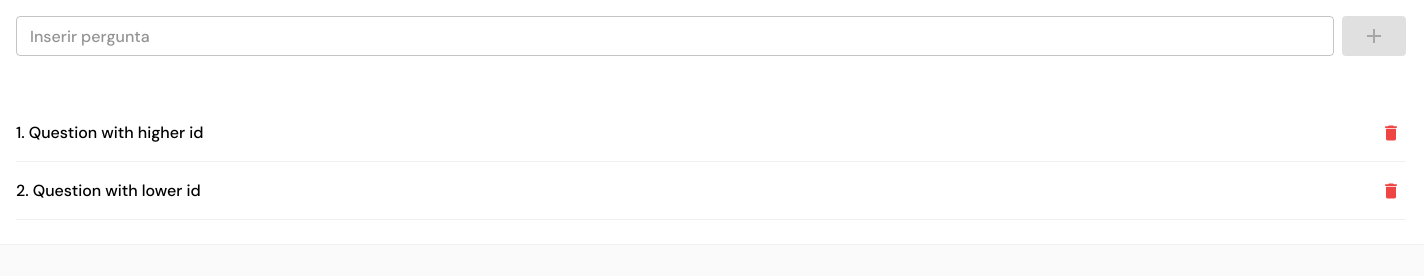
Test case: QuestionsForm › correctly sets idCounter based on max ID from initialQuestions
The image size is (1424, 276).
Type "New question" into the field with placeholder "Inserir pergunta". click: (675, 36)
box: x1=16 y1=16 x2=1334 y2=56
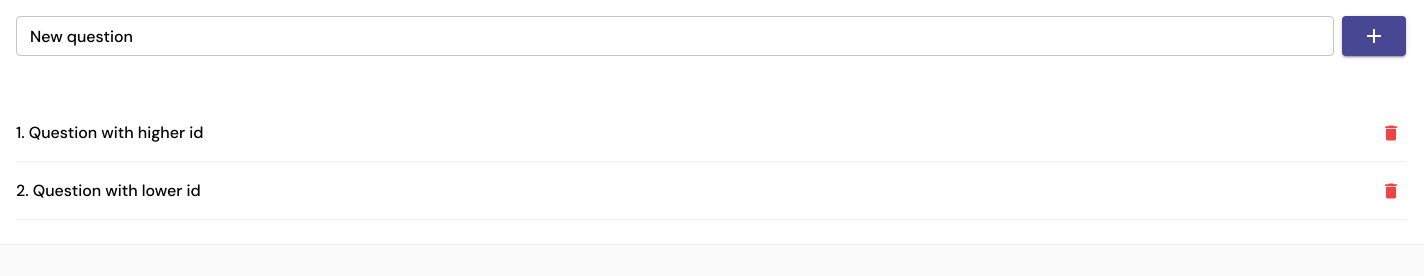
Click the button with test id "AddIcon". click: (1374, 36)
box: x1=1342 y1=16 x2=1406 y2=56
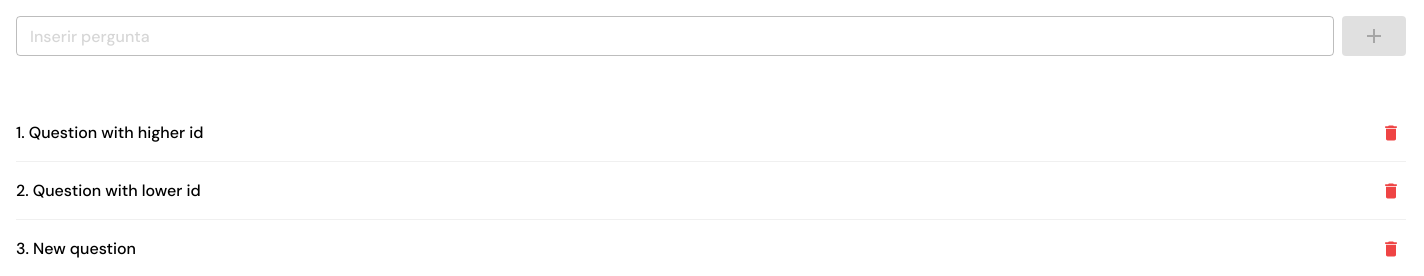
Expected: the text "3. New question" is shown, x1=16 y1=238 x2=136 y2=259
